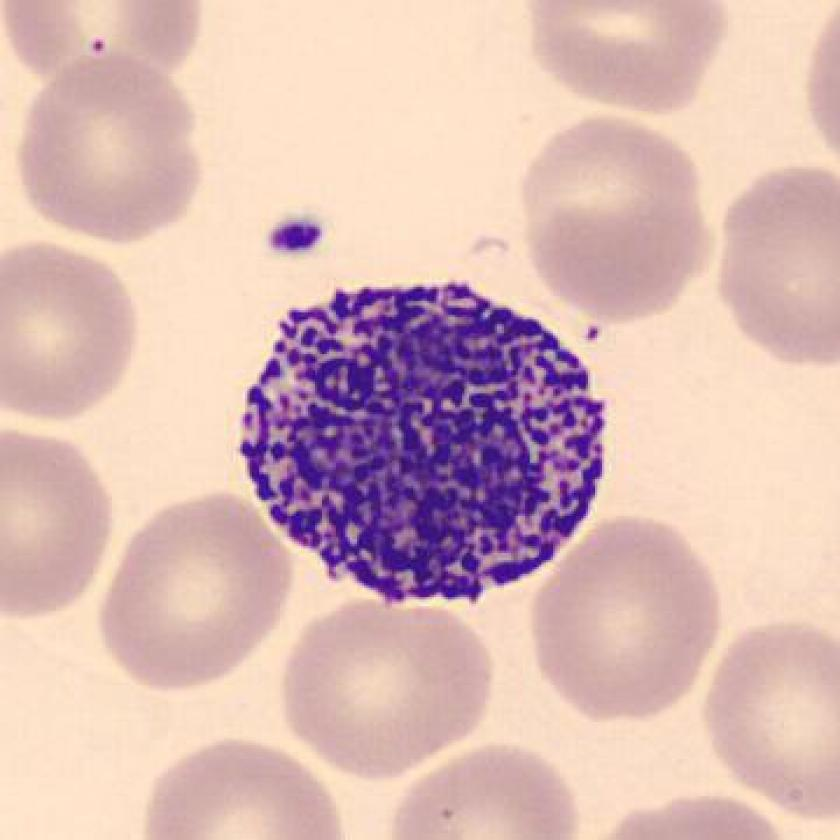basophil: (232, 279, 608, 612)
